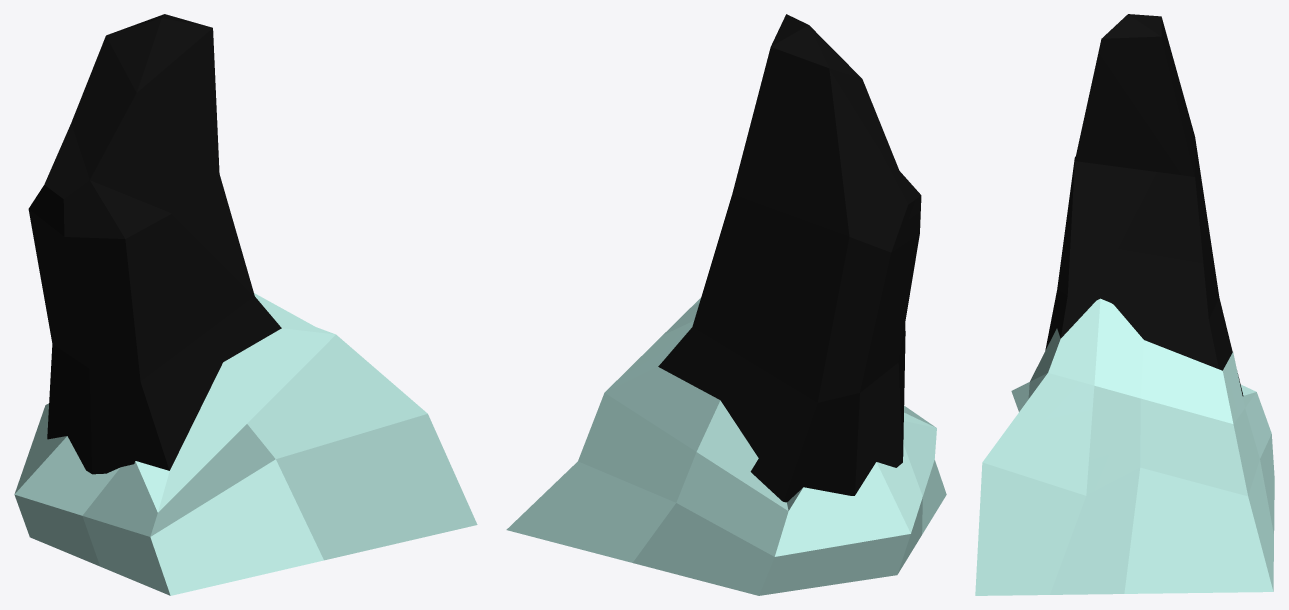
File: Rock3.FBX
The picture shows the model from 3 angles, left to right: view 1: azimuth 30°, elevation 25°; view 2: azimuth 150°, elevation 25°; view 3: azimuth 270°, elevation 25°; orthographic projection. The views are drawn at different scales.
Parts seen in each view (by area): view 1: Rock3, Rock3_B; view 2: Rock3, Rock3_B; view 3: Rock3_B, Rock3.
Part boxes in pixels (left/top/right/bottom): Rock3: left=28, top=14, right=281, bottom=474; Rock3_B: left=14, top=293, right=477, bottom=595; Rock3: left=658, top=14, right=921, bottom=502; Rock3_B: left=506, top=298, right=946, bottom=595; Rock3_B: left=975, top=298, right=1274, bottom=595; Rock3: left=1045, top=14, right=1243, bottom=396.
Bounding box in the file's own units: 3257 × 4405 × 2500.
